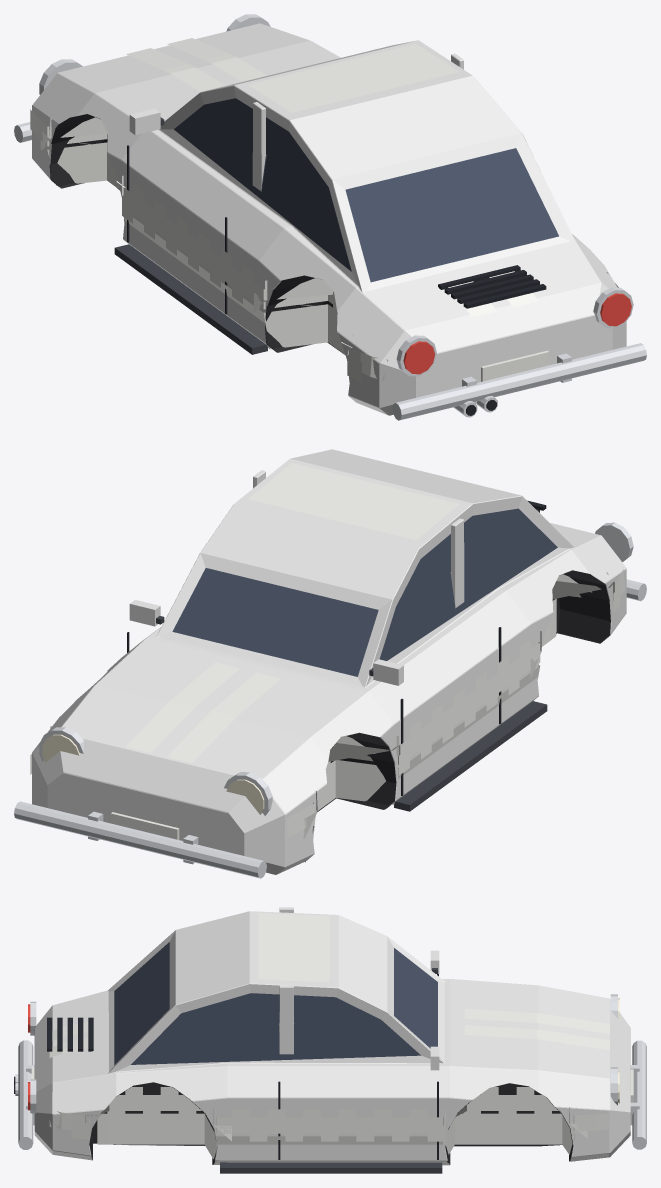
Rendered from kuplakone.glb.
3 views of the same model, one above another, from view 1: azimuth 30°, elevation 25°; view 2: azimuth 150°, elevation 25°; view 3: azimuth 270°, elevation 25° (orthographic). The views are drawn at different scales.
Parts seen in each view (by area): view 1: Body, Details, Pattern_TWO_TONE, Pattern_STRIPE, Pattern_CHECKER, Pattern_SIDE_BAND; view 2: Body, Details, Pattern_TWO_TONE, Pattern_STRIPE, Pattern_SIDE_BAND, Pattern_CHECKER; view 3: Body, Pattern_TWO_TONE, Details, Pattern_SIDE_BAND, Pattern_CHECKER, Pattern_STRIPE.
Part boxes in pixels (<box>): Body: <box>32,23,626,415</box>; Details: <box>14,14,646,420</box>; Pattern_TWO_TONE: <box>47,44,459,354</box>; Pattern_STRIPE: <box>126,38,537,317</box>; Pattern_CHECKER: <box>40,117,608,382</box>; Pattern_SIDE_BAND: <box>30,109,618,380</box>; Body: <box>32,449,626,874</box>; Details: <box>14,500,646,878</box>; Pattern_TWO_TONE: <box>248,463,556,862</box>; Pattern_STRIPE: <box>126,485,396,762</box>; Pattern_SIDE_BAND: <box>30,569,625,837</box>; Pattern_CHECKER: <box>50,572,620,838</box>; Body: <box>34,907,630,1165</box>; Pattern_TWO_TONE: <box>97,913,574,1164</box>; Details: <box>14,950,646,1173</box>; Pattern_SIDE_BAND: <box>49,1095,609,1133</box>; Pattern_CHECKER: <box>71,1087,587,1141</box>; Pattern_STRIPE: <box>49,934,609,1057</box>.
Size of the model in its own units: 1.86 by 1.56 by 4.27.
